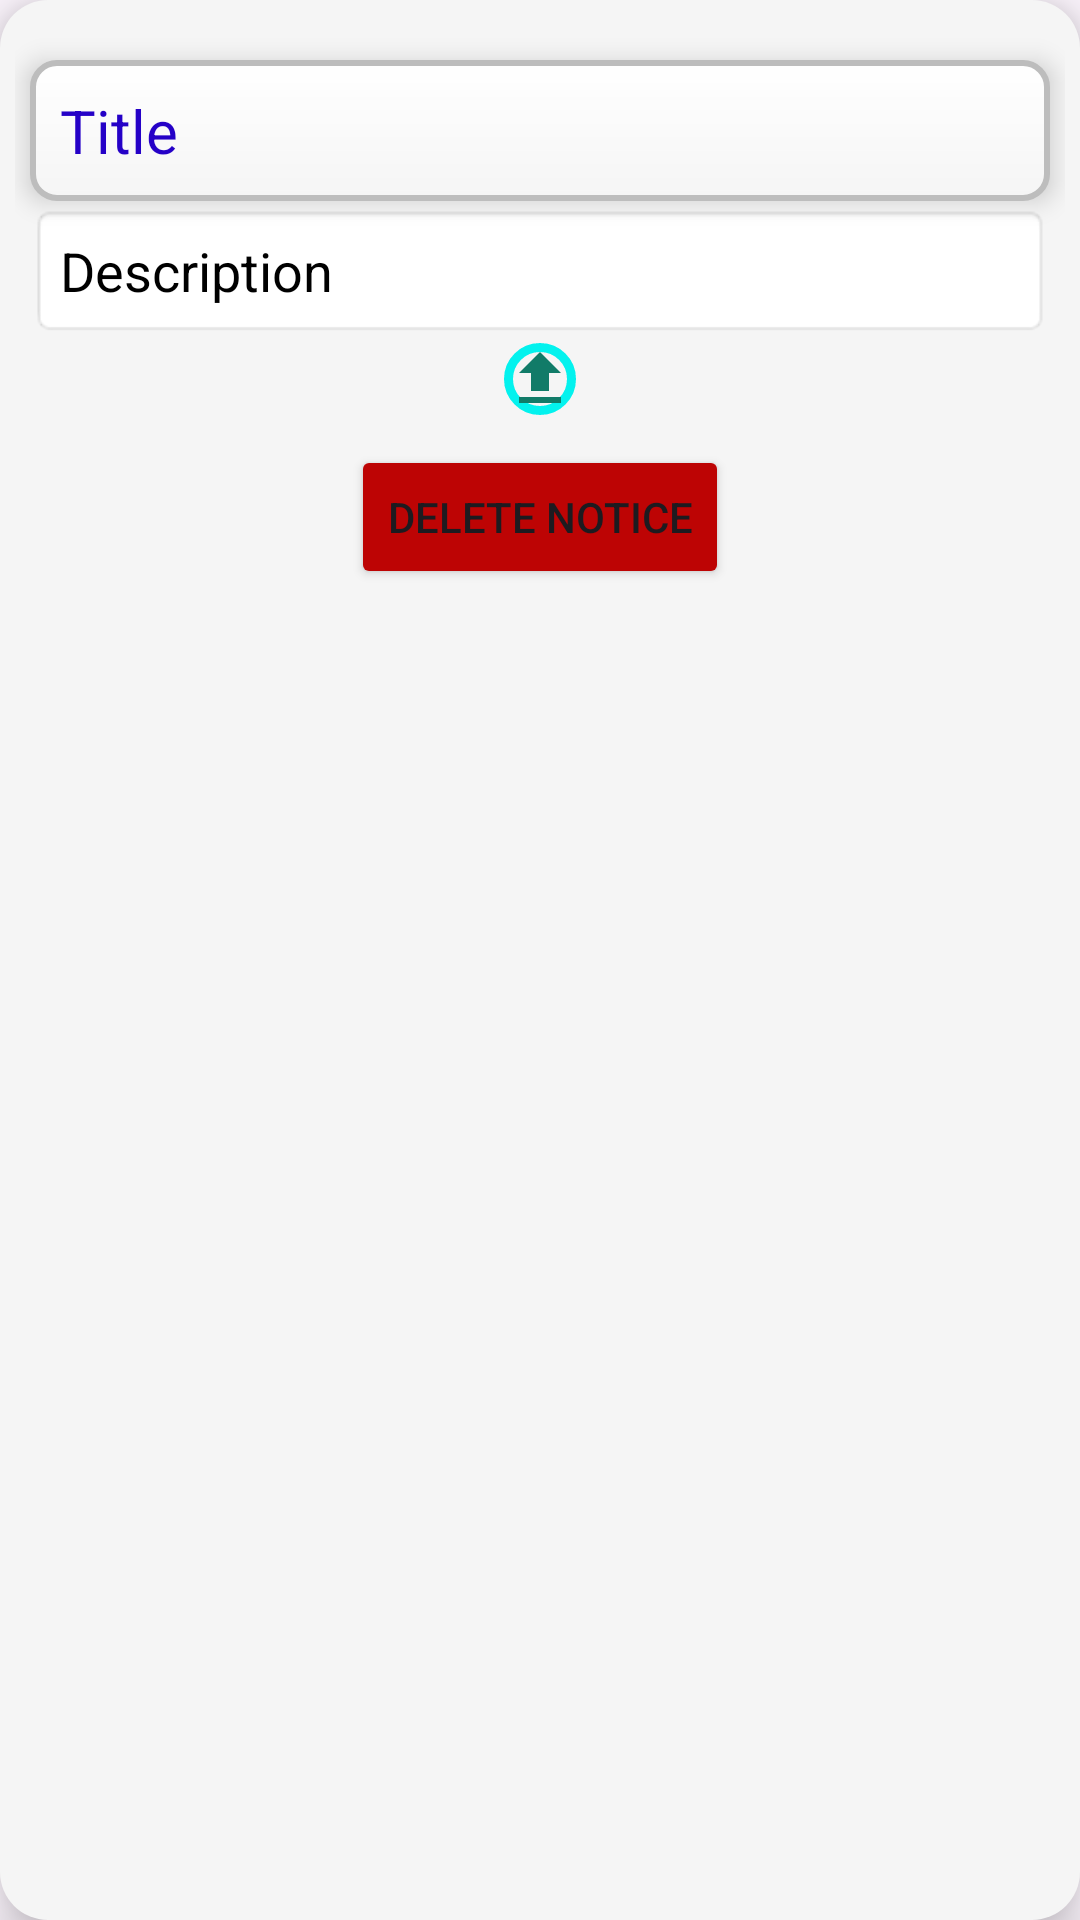

Icon bounding boxes for this 1080×1920 phone screenshot, format Rect(x1, y1, x2, y2):
upload: Rect(504, 343, 576, 415)
